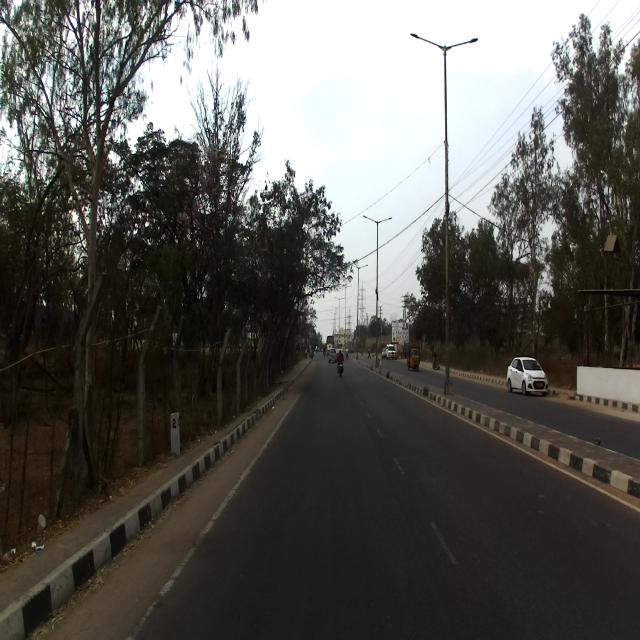tree ahead at: (62, 183, 115, 518)
